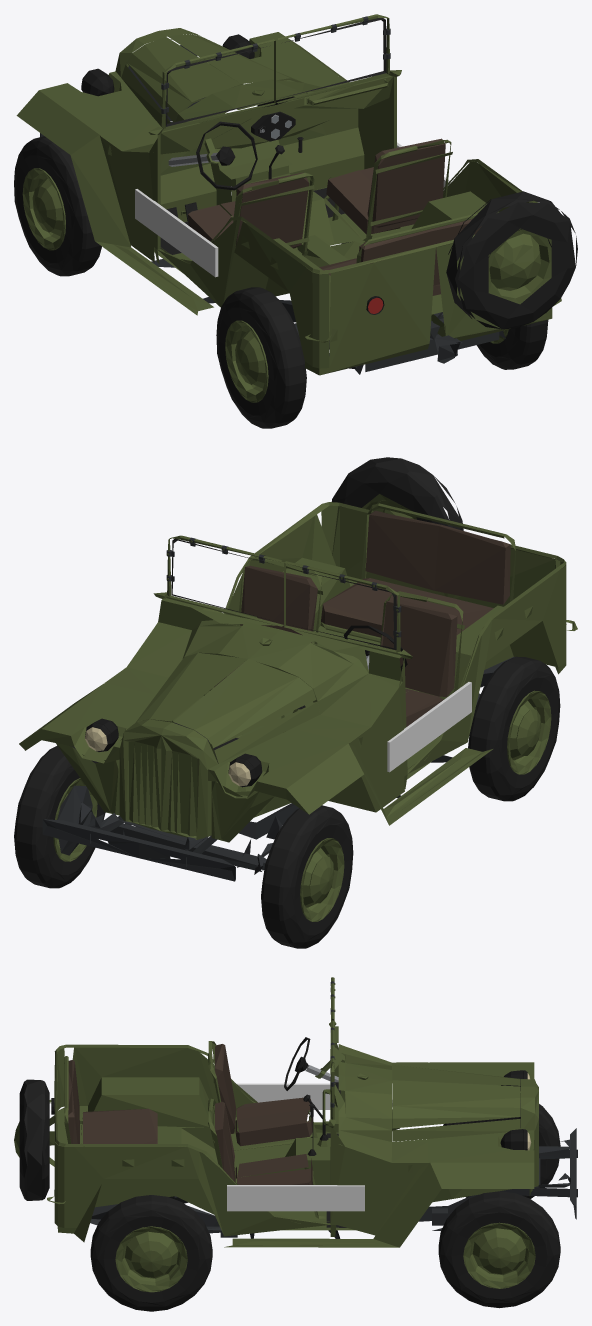
The model's file is jeep.glb.
3 renders of one model, top to bottom at view 1: azimuth 30°, elevation 25°; view 2: azimuth 150°, elevation 25°; view 3: azimuth 270°, elevation 25°, orthographic. The views are drawn at different scales.
Visible parts, largest first — view 1: body, marking; view 2: body, marking; view 3: body, marking.
Boxes of the visible parts, x1,y1,x2,y2 form: body: (14, 14, 577, 428); marking: (135, 142, 451, 277); body: (14, 457, 577, 948); marking: (387, 682, 471, 772); body: (14, 977, 577, 1311); marking: (227, 1083, 364, 1211).
Size of what is drawn, in the model's own units: 2.04 by 1.91 by 4.09.
